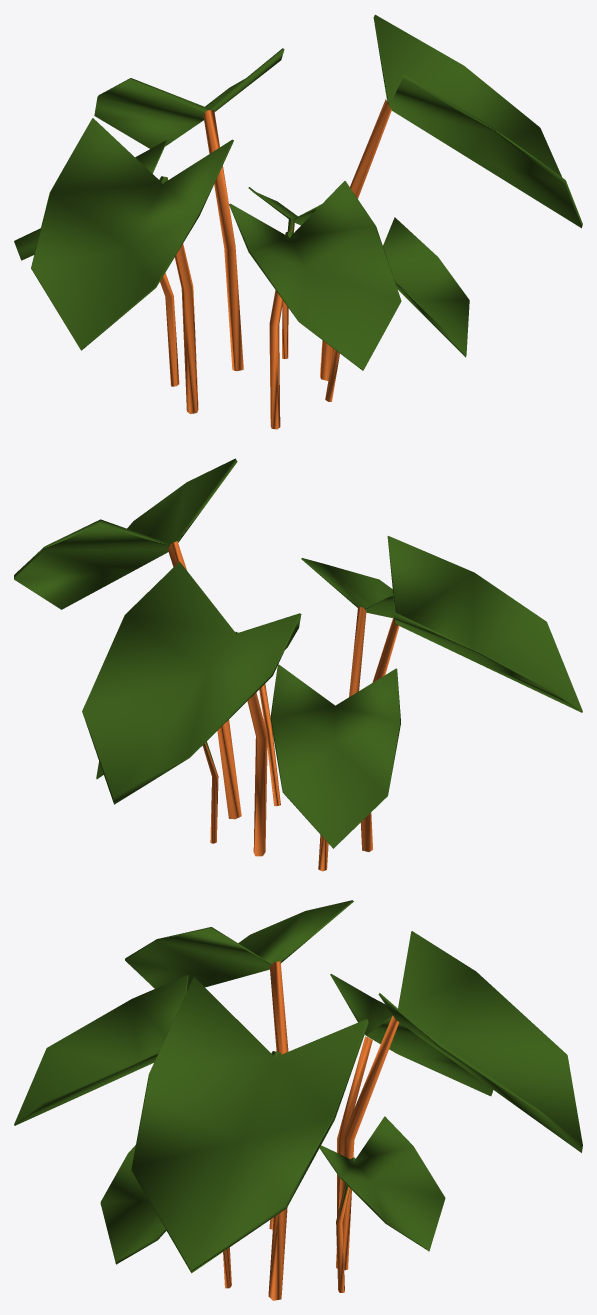
The model's file is plantbig.glb.
3 renders of one model, top to bottom at view 1: azimuth 30°, elevation 25°; view 2: azimuth 150°, elevation 25°; view 3: azimuth 270°, elevation 25°, orthographic. The views are drawn at different scales.
Visible parts, largest first — view 1: Anthurium_Plane.004; view 2: Anthurium_Plane.004; view 3: Anthurium_Plane.004.
Part boxes in pixels (left/top/right/bottom): Anthurium_Plane.004: left=14, top=14, right=582, bottom=429; Anthurium_Plane.004: left=14, top=458, right=582, bottom=871; Anthurium_Plane.004: left=14, top=900, right=582, bottom=1300.
Size of the model in its own units: 2.32 by 1.37 by 2.07.
